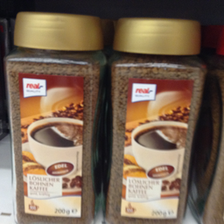coffee: (3, 10, 107, 224), (104, 17, 209, 224)
